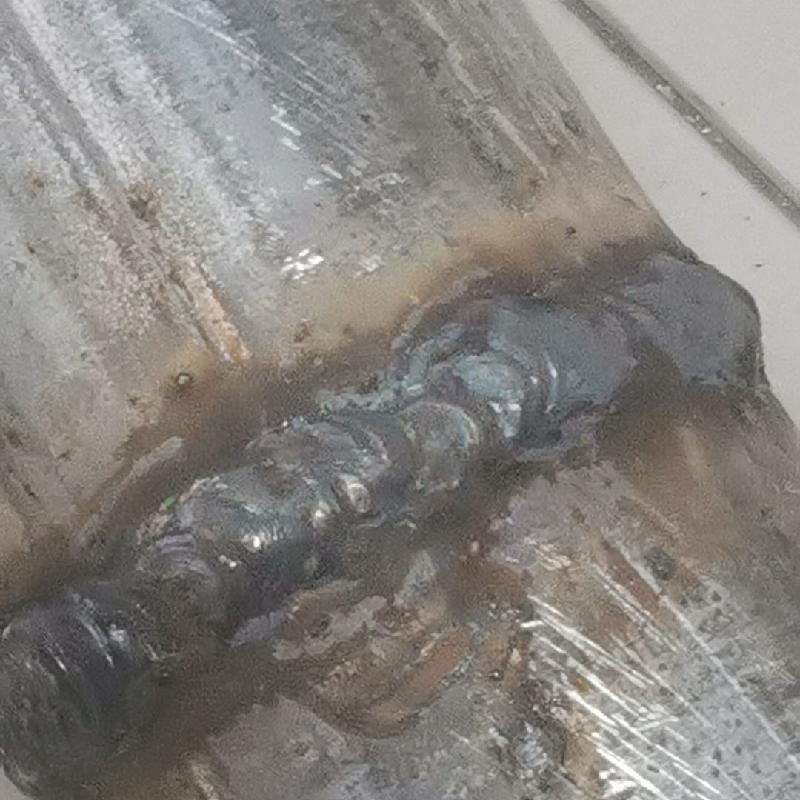good: (1, 237, 797, 783)
